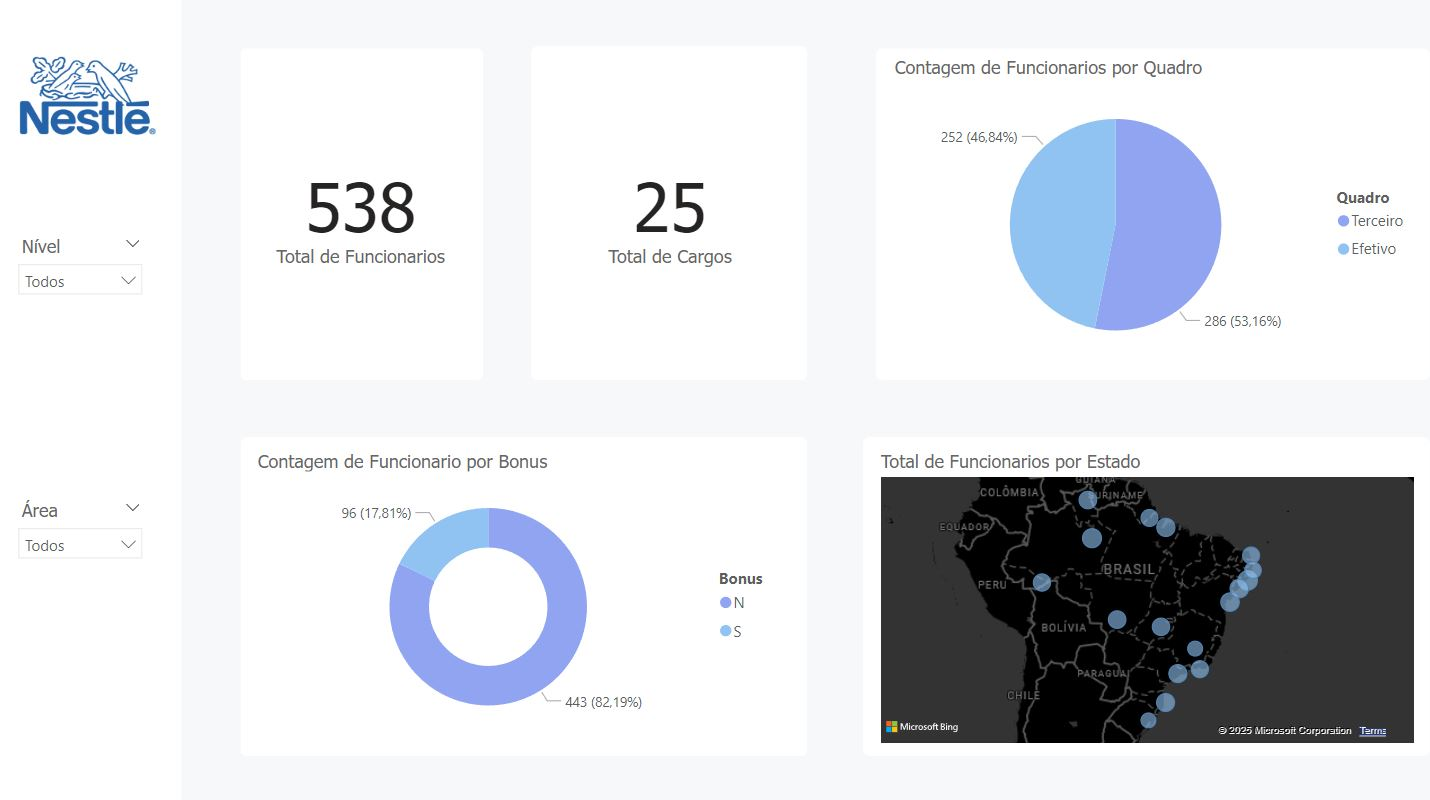

The dashboard page shown, as its layout file describes it:
{"tool":"powerbi","page":{"name":"Intro","canvas":[1280,720],"ordinal":0},"visuals":[{"type":"card","fields":{"Values":["Count(datalab funcionarios.nome_completo)"]},"box":[242.1,116.2,169.4,158.7],"z":0},{"type":"card","fields":{"Values":["Count(datalab cargos.cargo)"]},"box":[486.8,116.2,228.8,158.7],"z":1000},{"type":"map","fields":{"Category":["datalab cep.estado"],"Size":["datalabcep.TotFuncionariosEstado"]},"box":[783,405.2,483.3,265.1],"z":2000},{"type":"donutChart","title":"Contagem de Funcionario por Bonus","fields":{"Category":["datalab cargos.bonus"],"Y":["CountNonNull(datalab pq.nome_completo)"]},"box":[230.5,405.2,477.9,258.9],"z":3000},{"type":"pieChart","fields":{"Y":["Count(datalab funcionarios.nome_completo)"],"Category":["datalab cargos.quadro"]},"box":[795.4,55.9,470.8,280.2],"z":4000},{"type":"slicer","fields":{"Values":["datalab cargos.nivel"]},"box":[13.3,209.3,130.3,207.5],"z":5000},{"type":"slicer","fields":{"Values":["datalab cargos.area"]},"box":[13.3,443.3,130.3,220.8],"z":6000}]}

Visuals, with their boxes in screenshot pixels (x1, y1, x2, y2), scaled from the page's 1280x720 canvas onto the 1430x800 screenshot:
card - Count(datalab funcionarios.nome_completo): box(270, 129, 460, 305)
card - Count(datalab cargos.cargo): box(544, 129, 799, 305)
map - datalab cep.estado x datalabcep.TotFuncionariosEstado: box(875, 450, 1415, 745)
"Contagem de Funcionario por Bonus" donutChart: box(258, 450, 791, 738)
pieChart - Count(datalab funcionarios.nome_completo) x datalab cargos.quadro: box(889, 62, 1415, 373)
slicer - datalab cargos.nivel: box(15, 233, 160, 463)
slicer - datalab cargos.area: box(15, 493, 160, 738)
